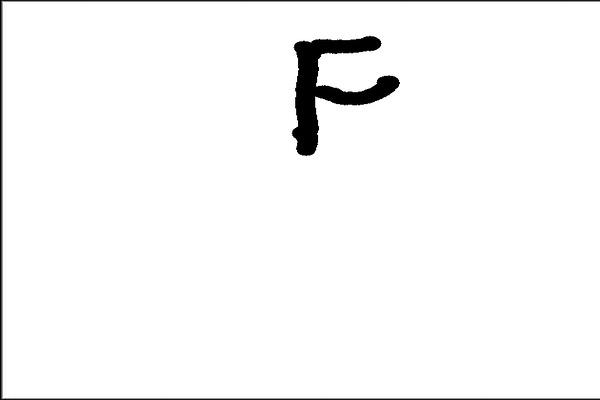F: (284, 31, 402, 159)
